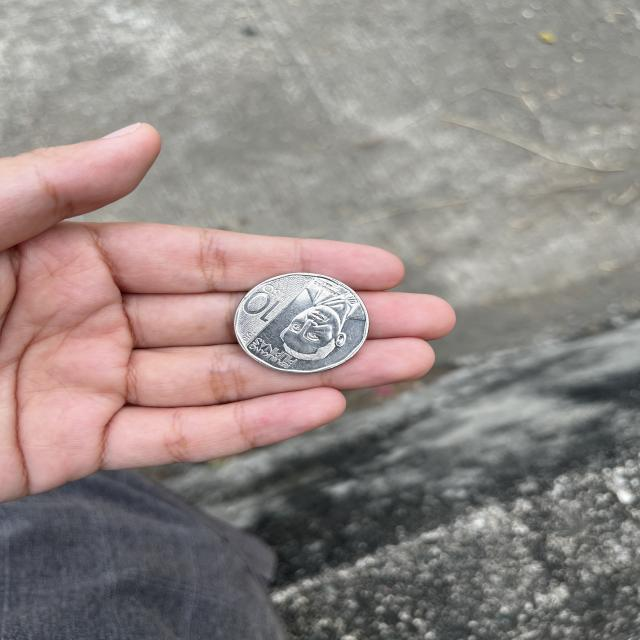10_New_Front: (243, 283, 287, 326)
